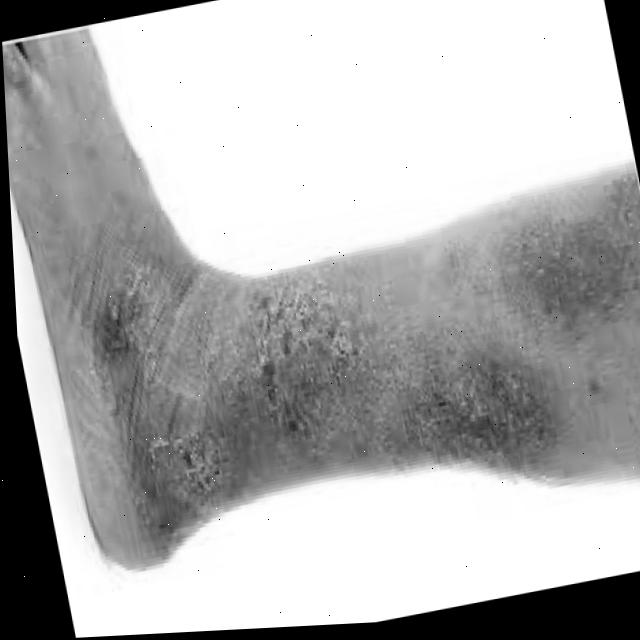Eczema: (103, 186, 640, 530)
